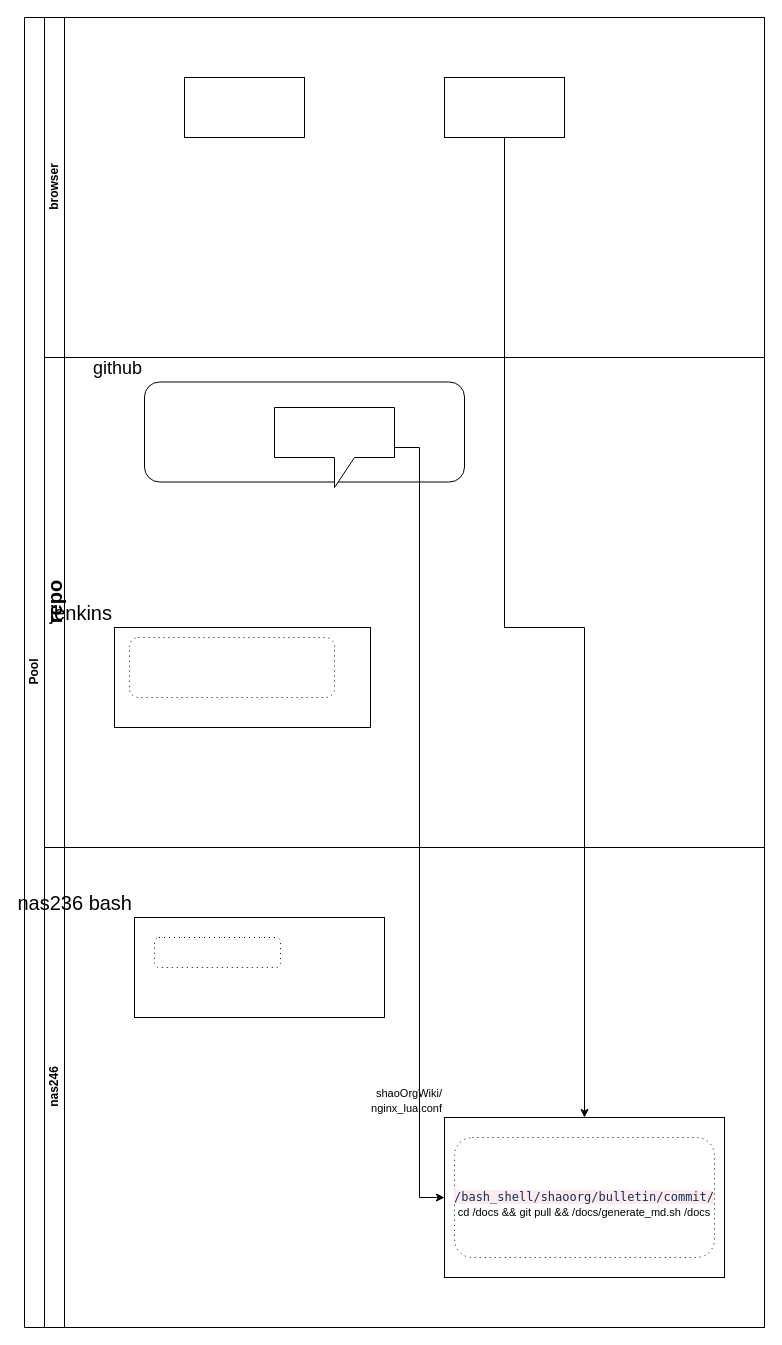
The diagram is 782 pixels wide and 1345 high, and some of its shapes have lost their labels. Here are the shapes that lost their labels. From the top down, the centre of each, then its label:
point (244, 107): save
point (504, 107): saveToRepo
point (334, 447): push event
point (231, 667): jenkins/ pipe-sync-ssz-git-repository/ generic-webhook-trigger
point (217, 952): fragement_tools_syno_cli.sh/ syno_cli_git_sync_install
